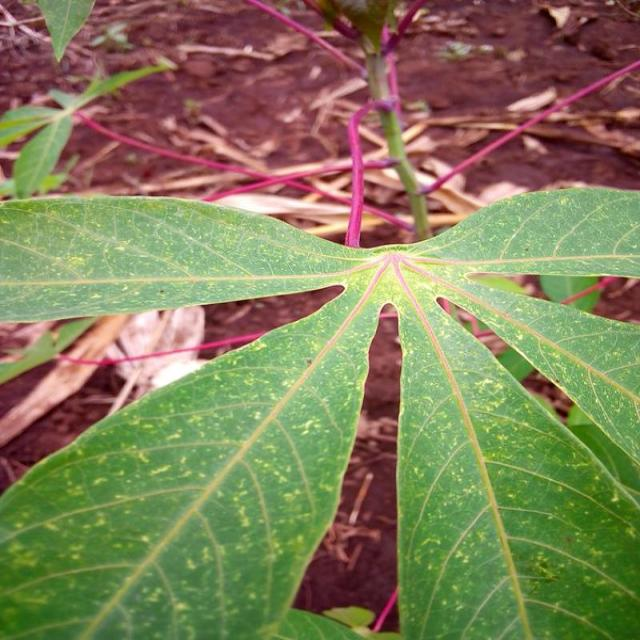cassava leaf: (2, 181, 640, 637), (2, 260, 386, 638), (395, 273, 640, 639)
